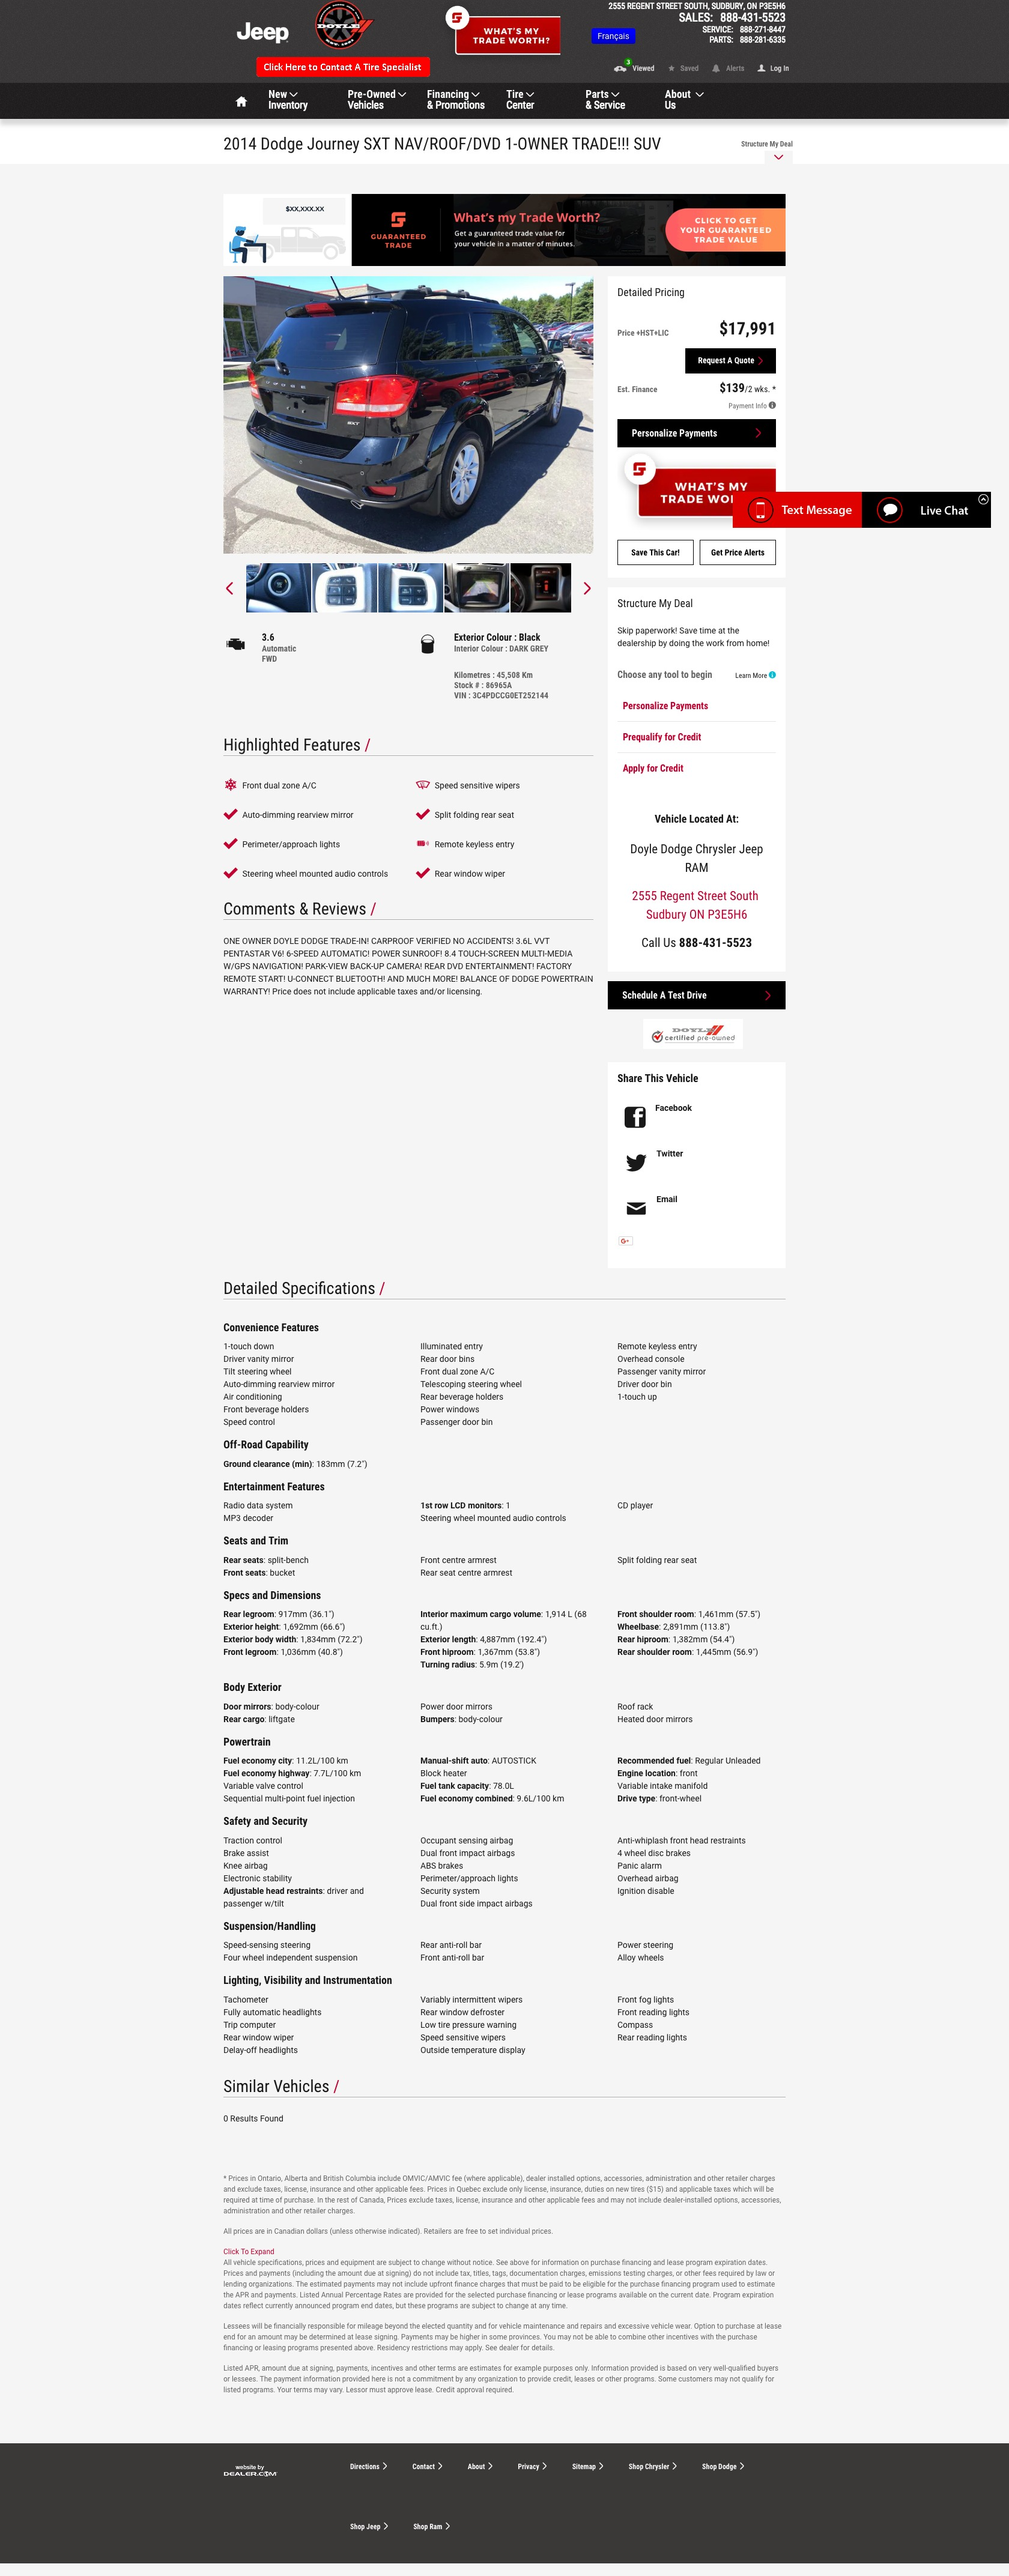car: (582, 580, 593, 596)
